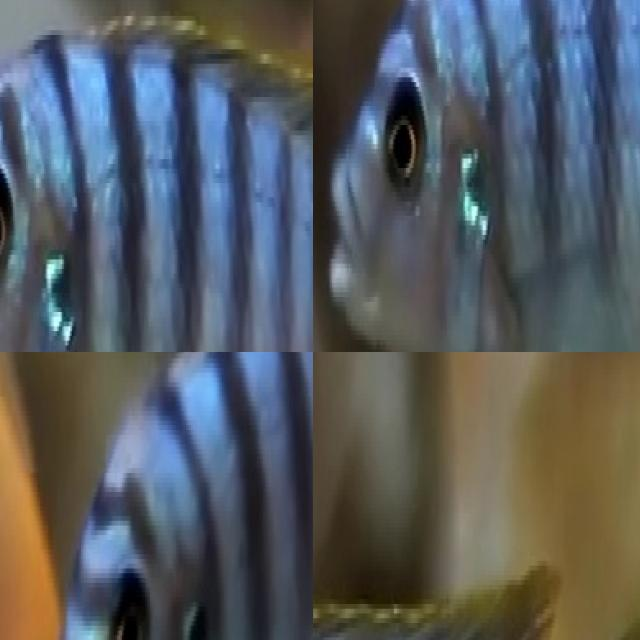fish: (314, 0, 640, 352), (0, 0, 313, 352)
